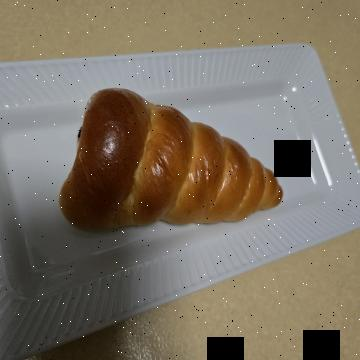cream horn: (71, 68, 256, 324)
